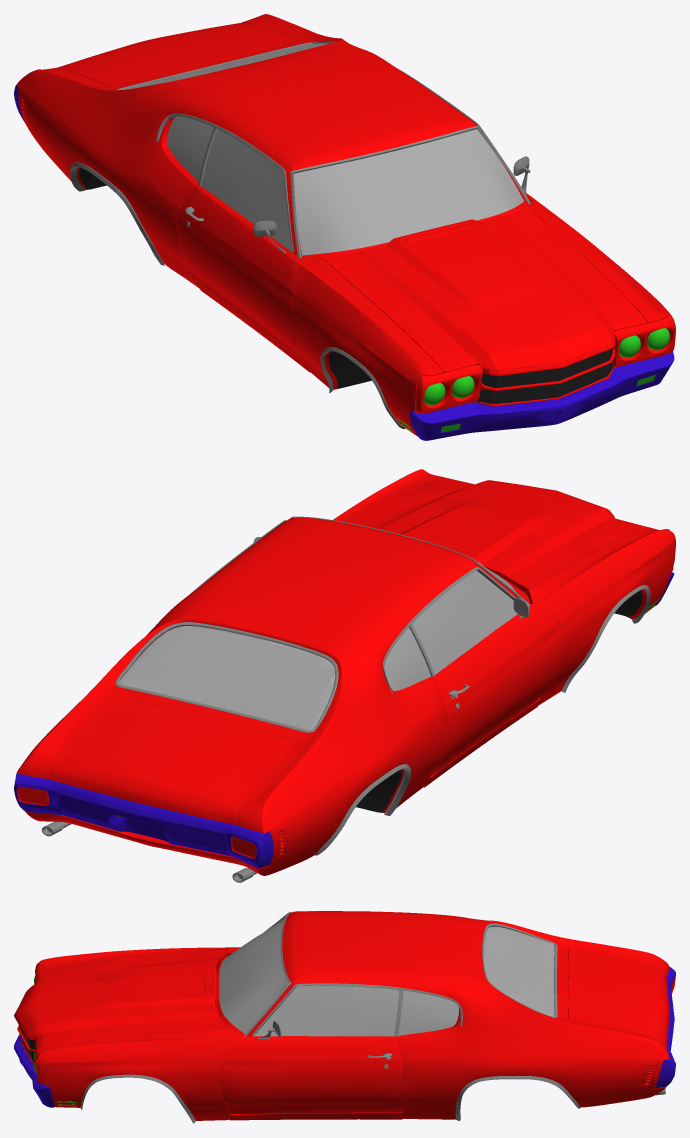
Rendered from Chevy_Final.fbx.
The picture shows the model from 3 angles, top to bottom: view 1: azimuth 30°, elevation 25°; view 2: azimuth 150°, elevation 25°; view 3: azimuth 270°, elevation 25°; orthographic projection. The views are drawn at different scales.
Parts seen in each view (by area): view 1: Chevy_Final; view 2: Chevy_Final; view 3: Chevy_Final.
Boxes of the visible parts, bbox=[...] form: Chevy_Final: bbox=[14, 14, 675, 440]; Chevy_Final: bbox=[14, 469, 675, 882]; Chevy_Final: bbox=[14, 911, 675, 1123].
Bounding box in the file's own units: 160 × 96.63 × 414.
